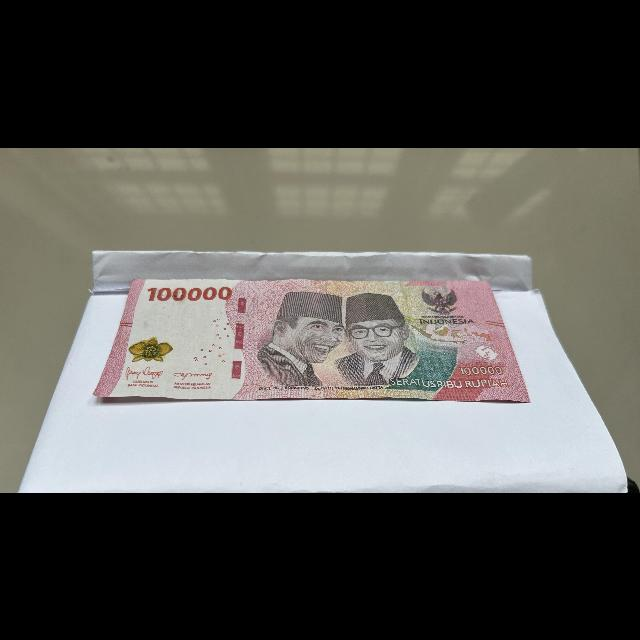Palsu-100k: (90, 275, 535, 404)
Tinta-Palsu-100k: (123, 334, 176, 362)
